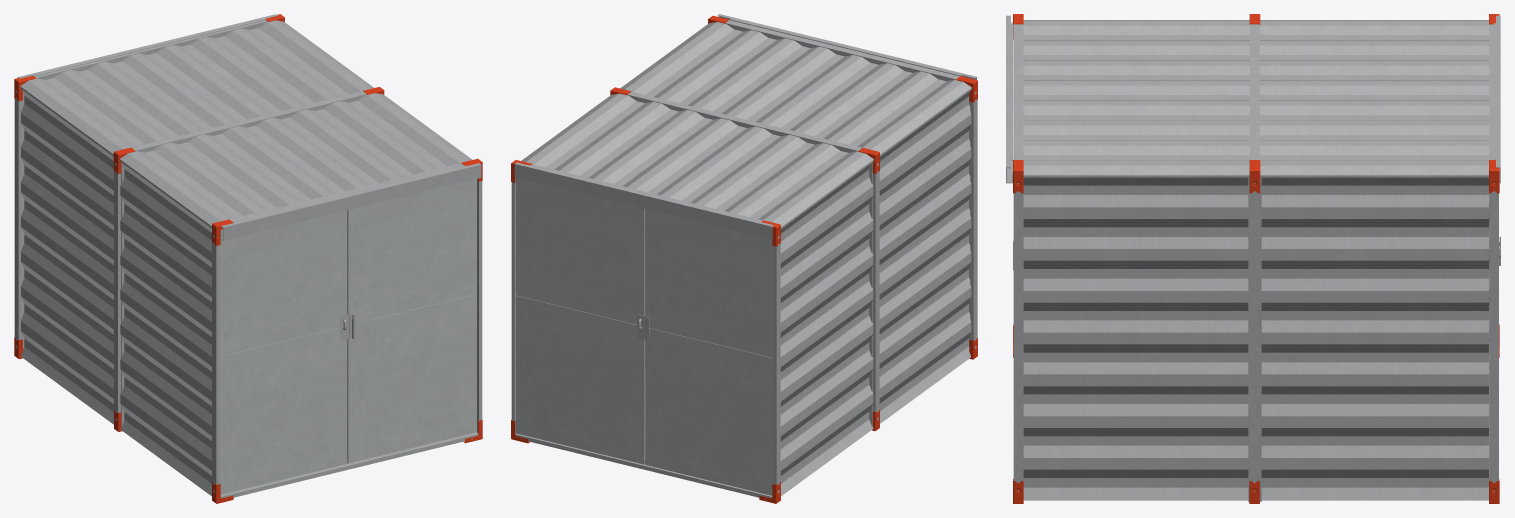
Rendered from 6D_closed.glb.
3 views of the same model, side by side, from view 1: azimuth 30°, elevation 25°; view 2: azimuth 150°, elevation 25°; view 3: azimuth 270°, elevation 25° (orthographic). The views are drawn at different scales.
Visible parts, largest first — view 1: leftWall, ceiling.001, rightSideDoorWing.001, leftSideDoorWing, rimFront, gutter, middleRim, backRim, gutter.001, Cube.006; view 2: rightSideDoorWing.002, leftWall, ceiling.001, backRim, gutter.001, rimFront, middleRim, gutter, Cube.006; view 3: rightWall.001, ceiling.001, rimFront, middleRim, backRim, Cube.007, gutter, gutter.001.
Boxes of the visible parts, bbox=[...] form: leftWall: bbox=[21, 90, 211, 496]; ceiling.001: bbox=[20, 20, 472, 228]; rightSideDoorWing.001: bbox=[347, 179, 476, 463]; leftSideDoorWing: bbox=[219, 210, 347, 494]; rimFront: bbox=[212, 163, 482, 499]; gutter: bbox=[220, 163, 481, 240]; middleRim: bbox=[114, 91, 366, 421]; backRim: bbox=[14, 20, 267, 348]; gutter.001: bbox=[17, 14, 277, 78]; Cube.006: bbox=[121, 163, 124, 426]; rightSideDoorWing.002: bbox=[516, 177, 773, 495]; leftWall: bbox=[780, 91, 971, 495]; ceiling.001: bbox=[521, 22, 971, 228]; backRim: bbox=[511, 164, 780, 499]; gutter.001: bbox=[514, 162, 773, 239]; rimFront: bbox=[725, 20, 977, 348]; middleRim: bbox=[627, 91, 879, 420]; gutter: bbox=[717, 14, 976, 79]; Cube.006: bbox=[869, 163, 872, 426]; rightWall.001: bbox=[1023, 177, 1488, 500]; ceiling.001: bbox=[1023, 20, 1489, 177]; rimFront: bbox=[1013, 24, 1023, 491]; middleRim: bbox=[1250, 24, 1259, 491]; backRim: bbox=[1489, 24, 1498, 491]; Cube.007: bbox=[1248, 177, 1261, 501]; gutter: bbox=[1006, 15, 1013, 183]; gutter.001: bbox=[1493, 15, 1500, 183].
Size of the model in its own units: 23.08 by 22.99 by 30.83.
Materials: 19 (15 with a texture image).
